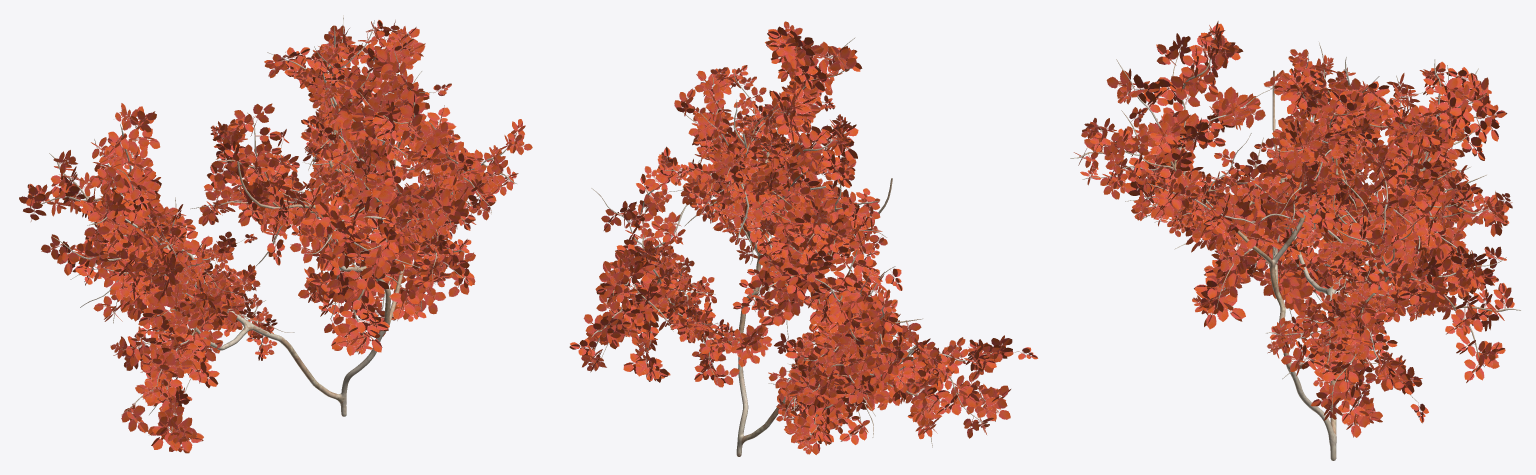
File: Tree_1_5_Red.fbx
3 views of the same model, side by side, from view 1: azimuth 30°, elevation 25°; view 2: azimuth 150°, elevation 25°; view 3: azimuth 270°, elevation 25° (orthographic). The views are drawn at different scales.
Visible parts, largest first — view 1: Tree_1_5_Red_LOD0; view 2: Tree_1_5_Red_LOD0; view 3: Tree_1_5_Red_LOD0.
Part boxes in pixels (x1=…): Tree_1_5_Red_LOD0: x1=19, y1=15, x2=532, y2=453; Tree_1_5_Red_LOD0: x1=569, y1=21, x2=1037, y2=456; Tree_1_5_Red_LOD0: x1=1070, y1=21, x2=1520, y2=460.
Size of what is drawn, in the model's own units: 514 by 529 by 488.
